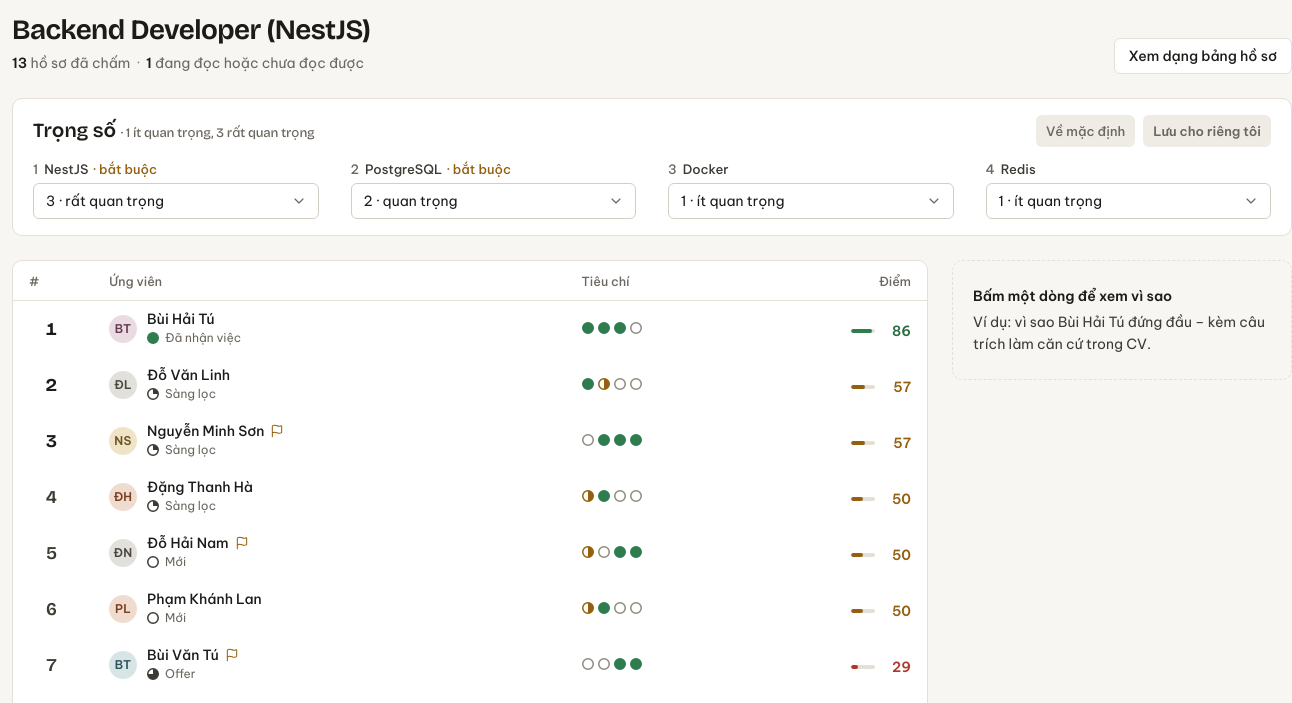
Test: JobRankingPage › MVP 3.1 · BR-RANK-02: a Hiring Manager saves weights for themselves only
Select "1 · ít quan trọng" in the dropdown labelled "1NestJS· bắt buộc" at (176, 201), box [33,183,318,219]
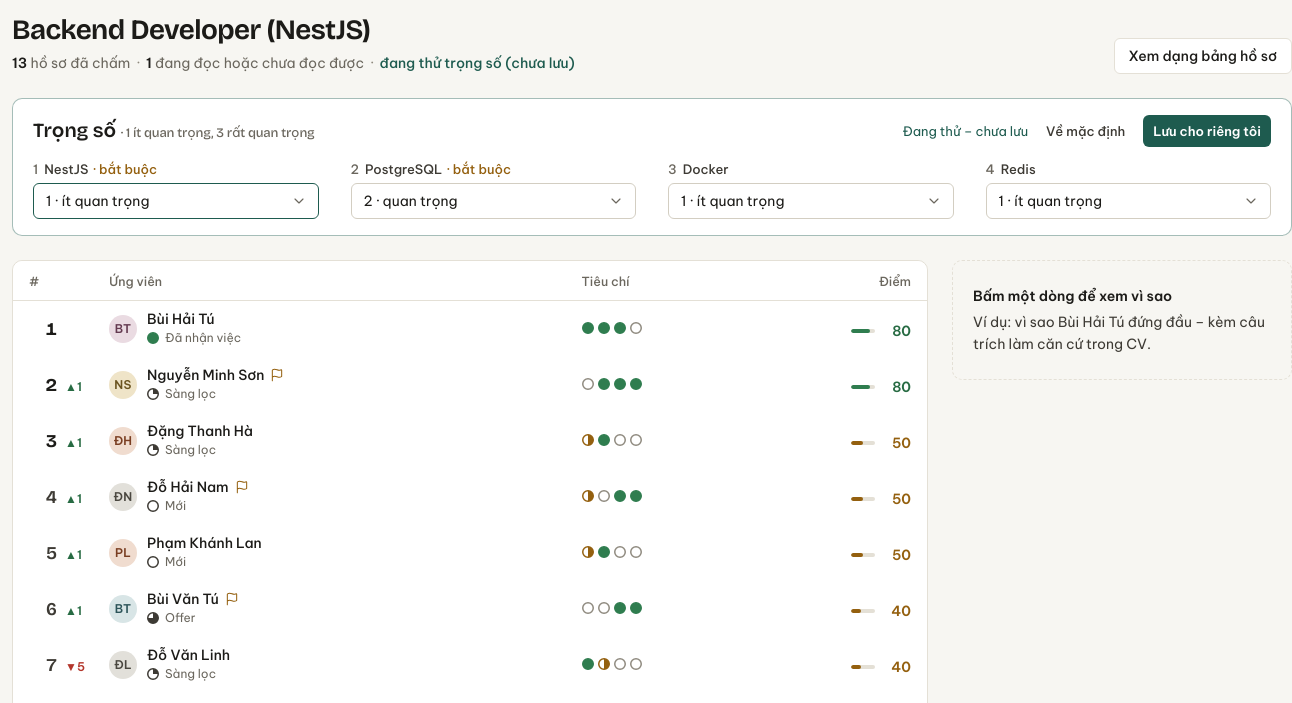
Check: the button "Về mặc định" is enabled, box [1036,115,1135,147]
Click the button "Lưu cho riêng tôi" at (1207, 131), box [1143,115,1271,147]
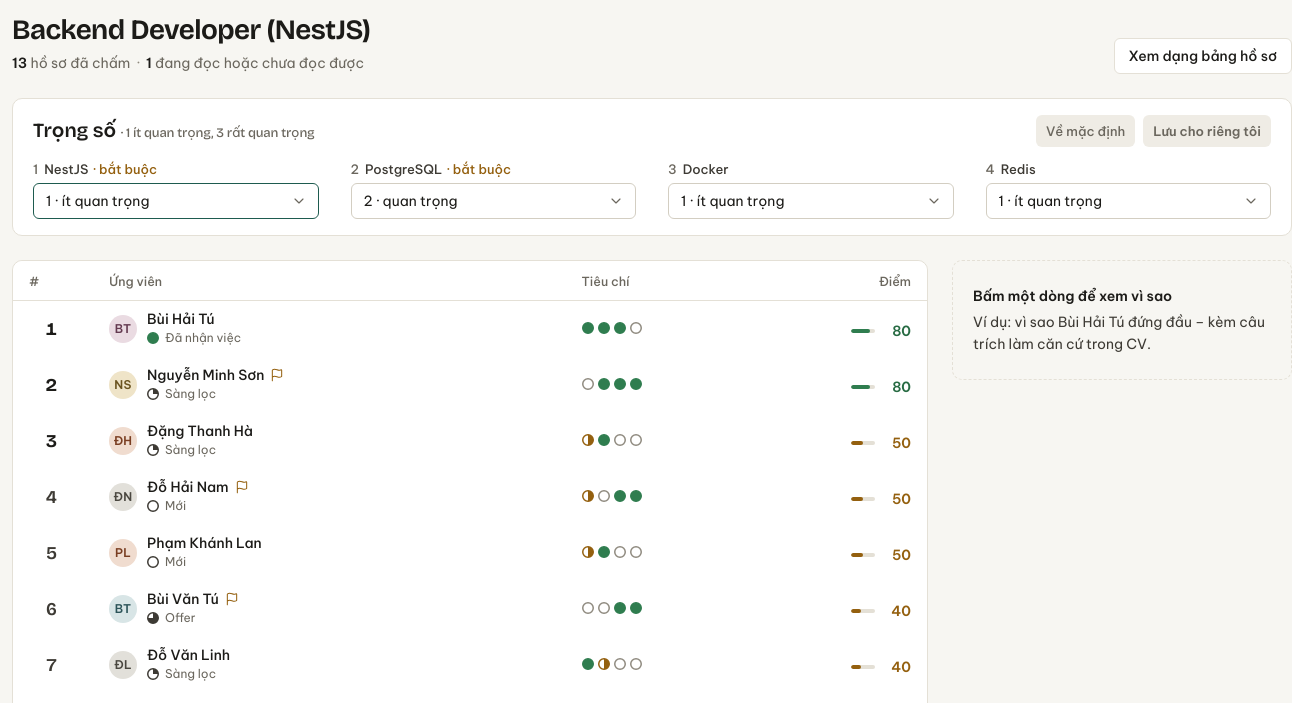
Check: the button "Về mặc định" is disabled, box [1036,115,1135,147]
